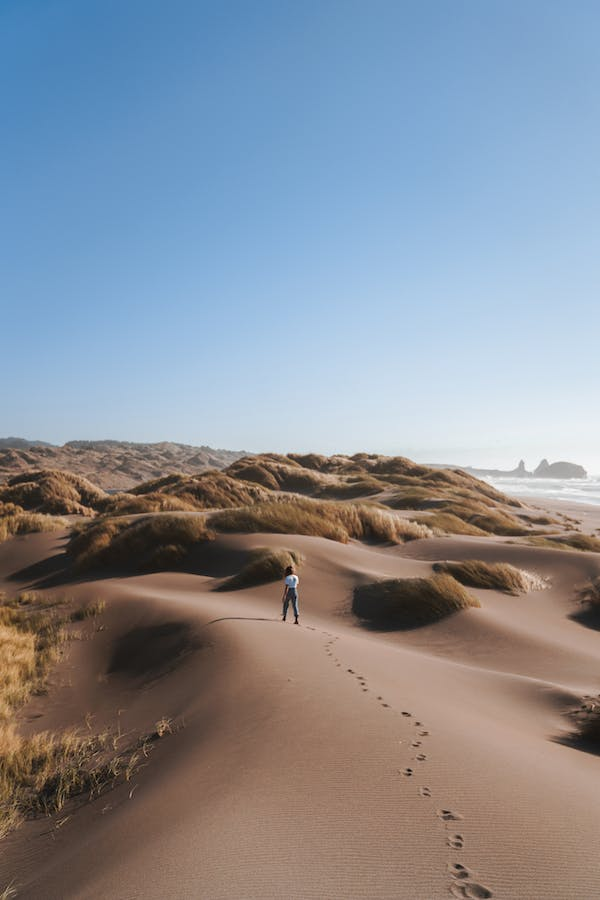human_footprint: (312, 650, 514, 900)
